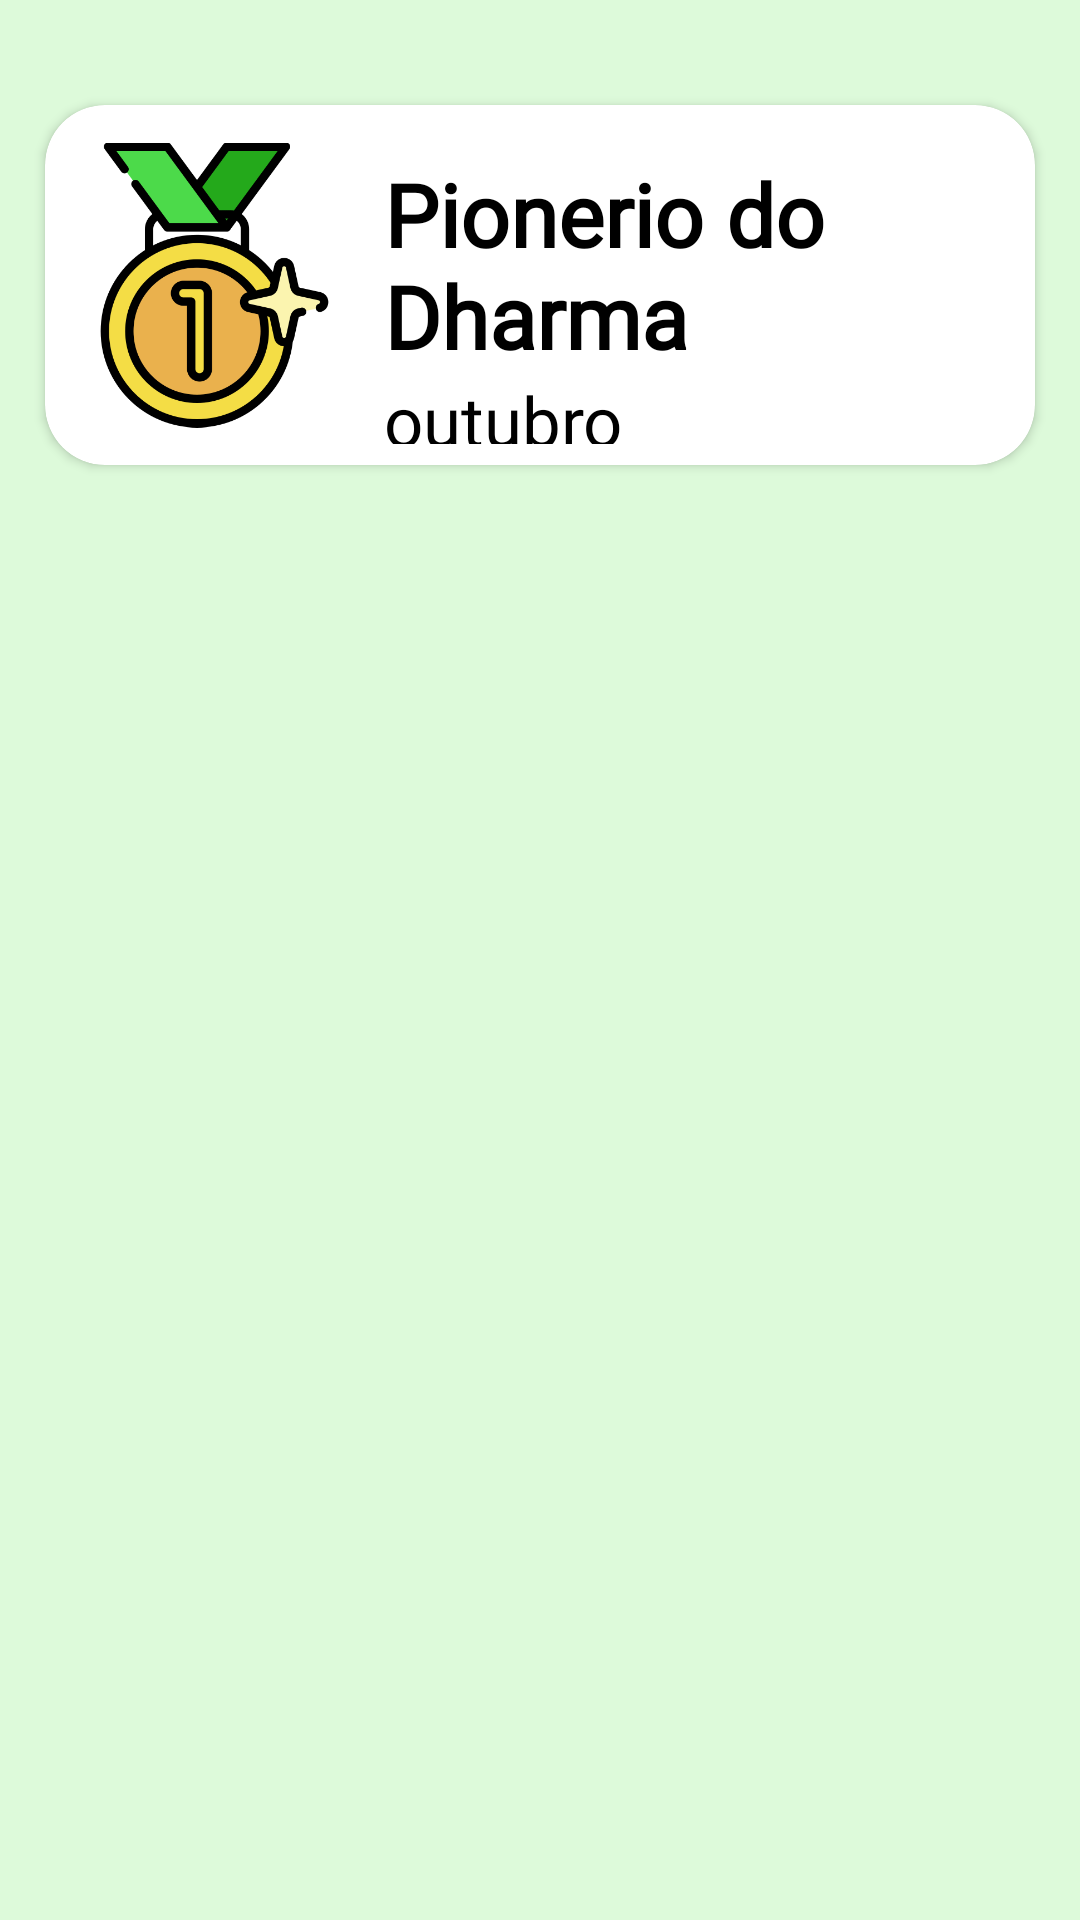

Icons on this 1080w x 1920h Android screen, each with its box as BBox(x1, y1, x2, y2):
gold medal: BBox(100, 143, 329, 428)
